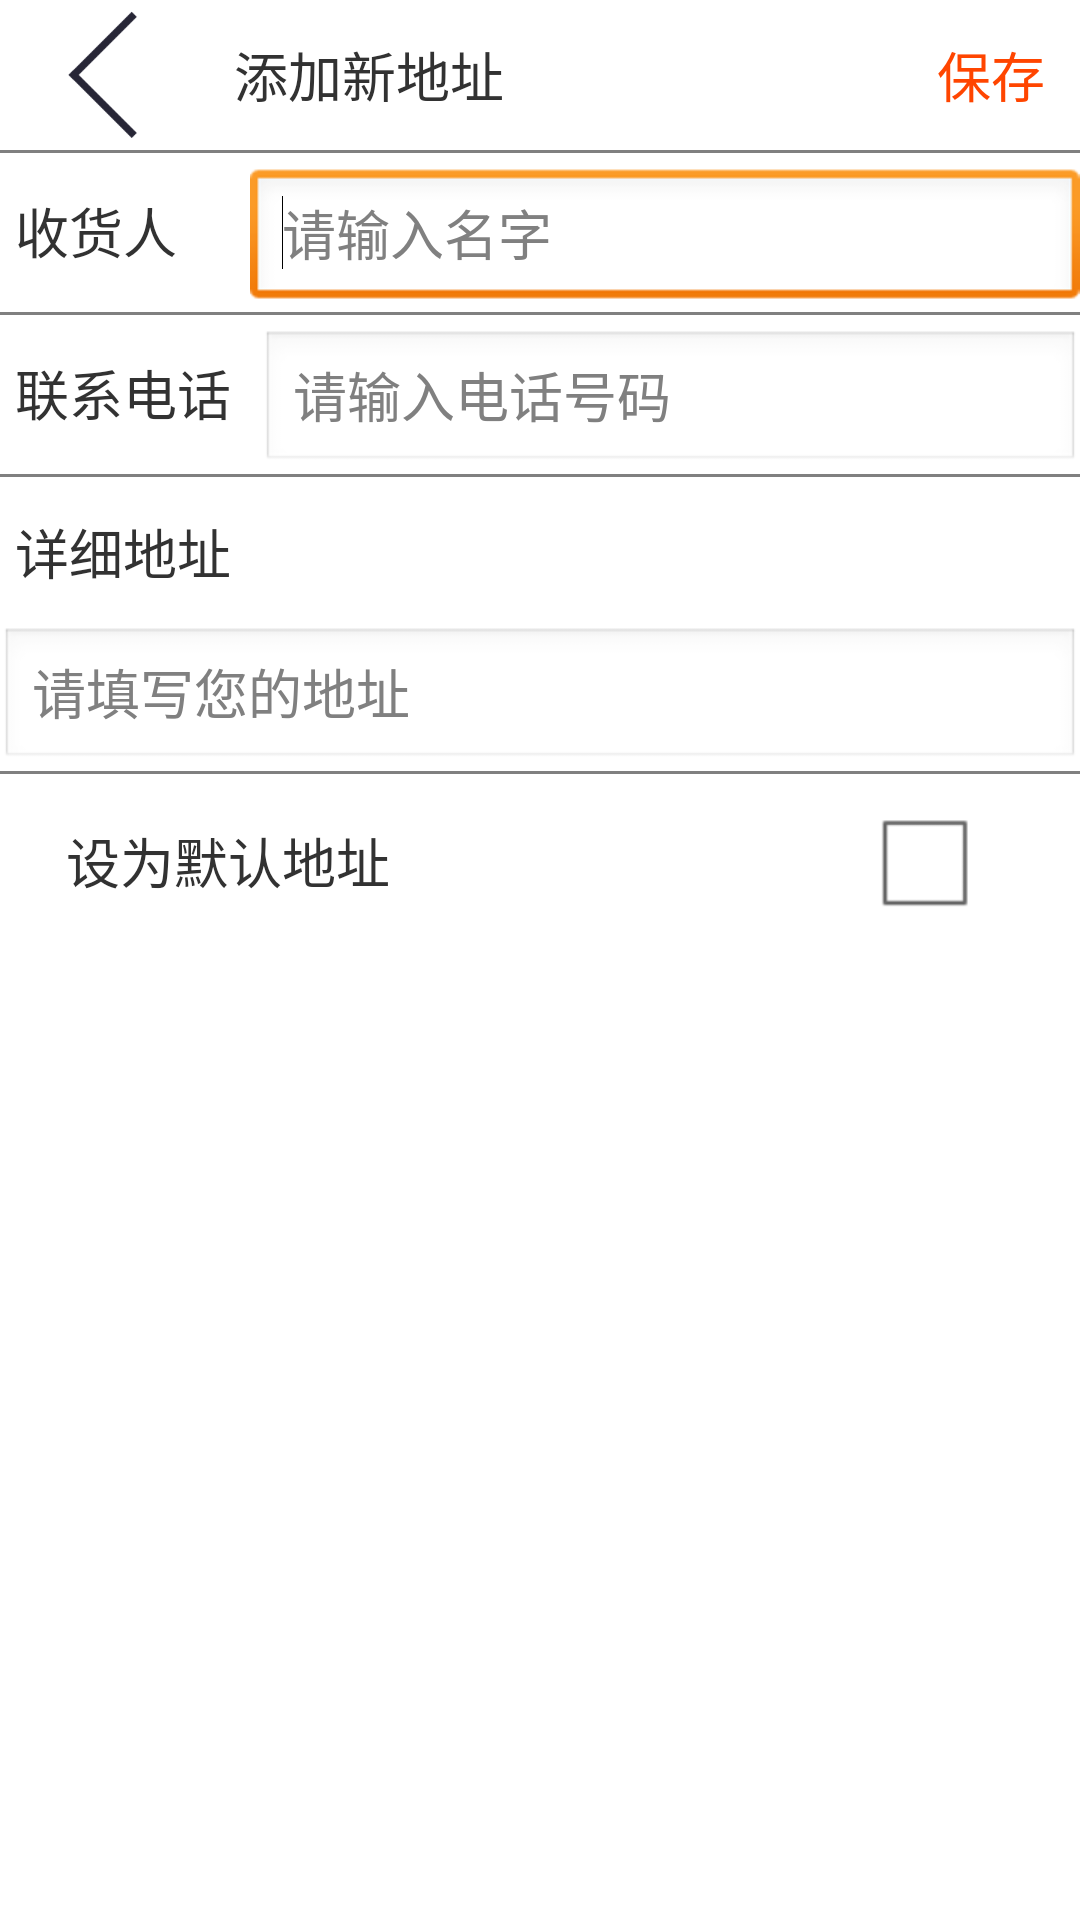

Locate icon controls on the screen. Image size 1080px x 1920px, boxes as bbox=(x1, y1, x2, y2).
arrow left: bbox=(68, 12, 137, 138)
